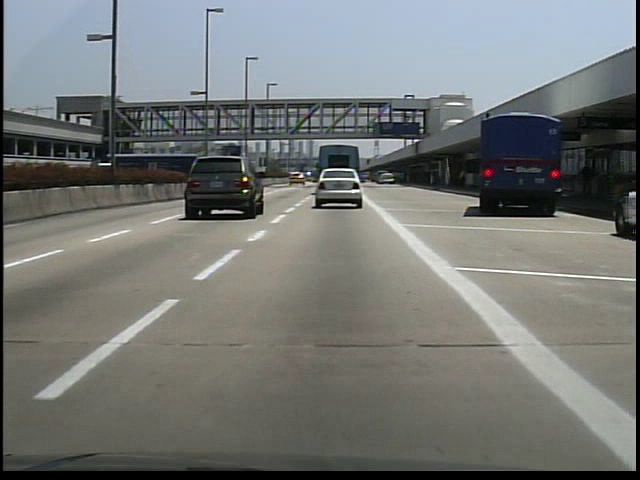person: (575, 154, 595, 210)
